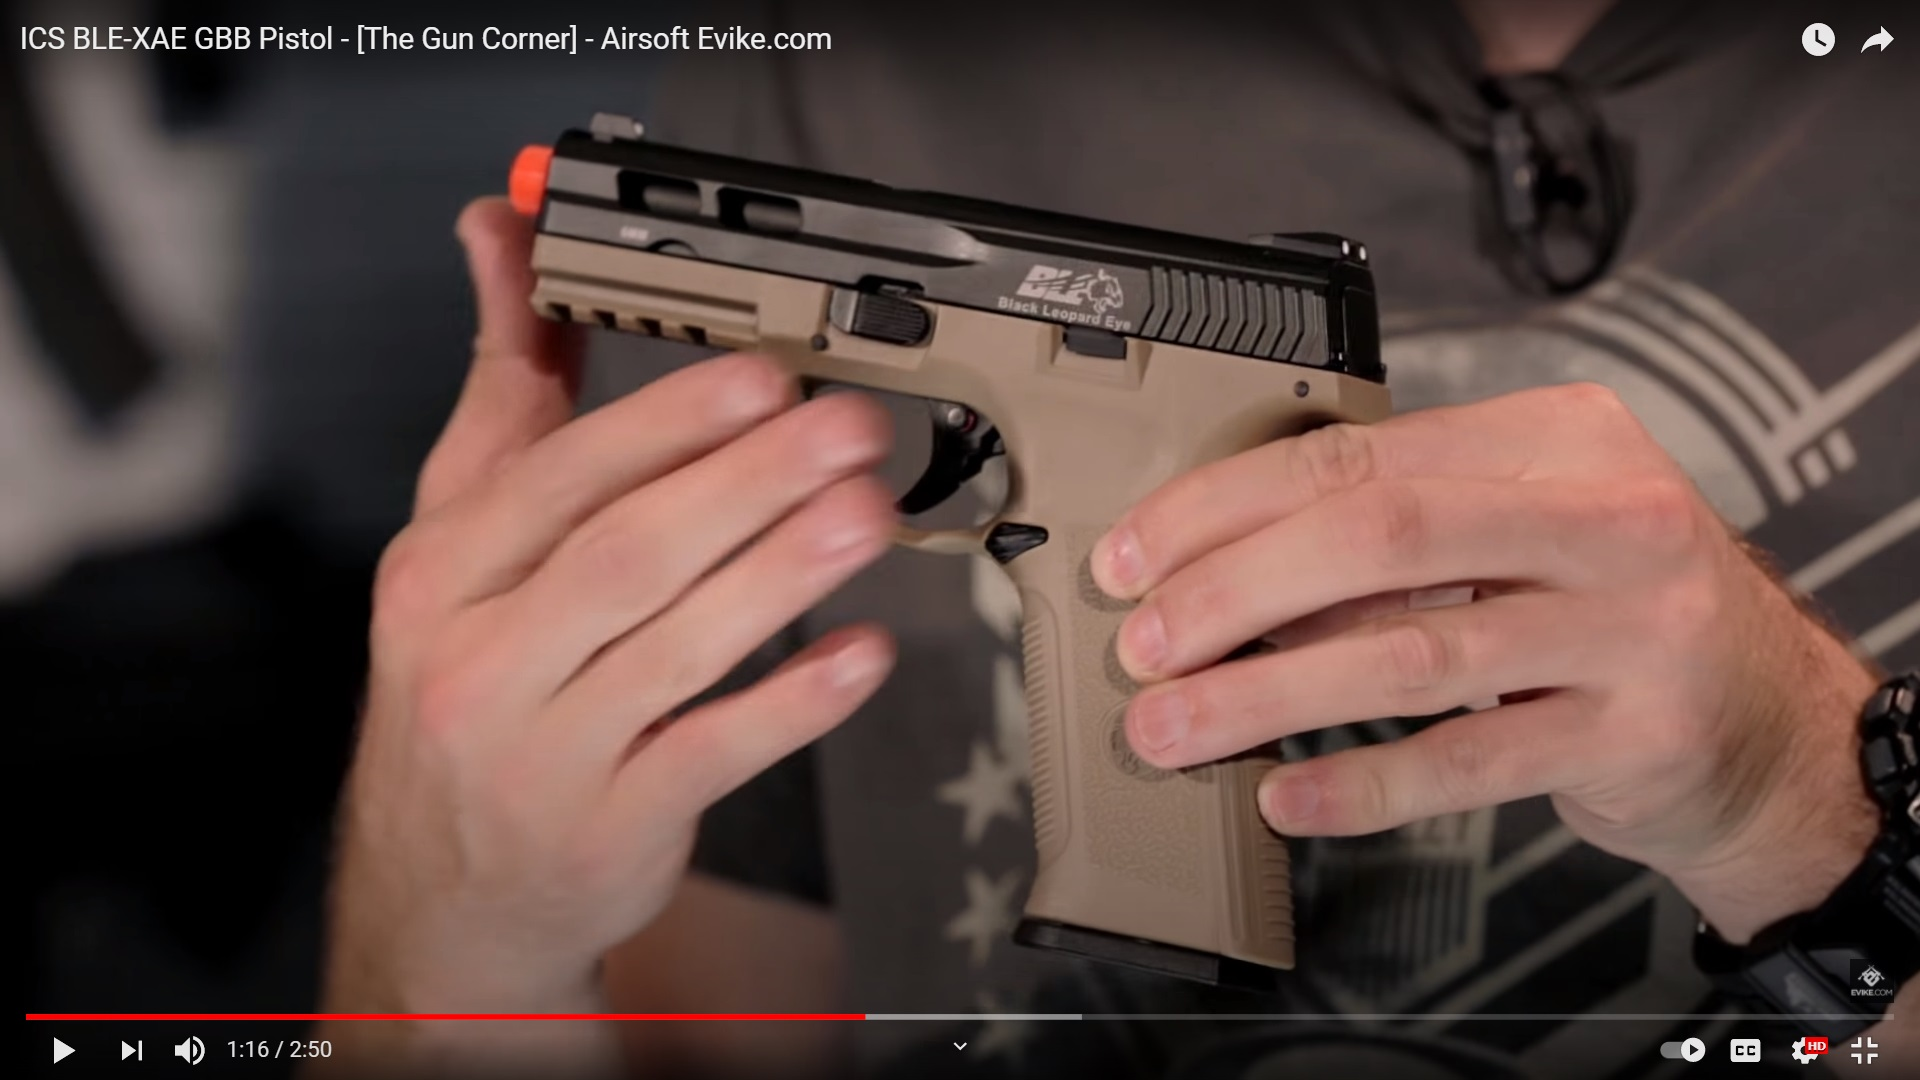asg_ics_ble_xae: (527, 104, 1400, 984)
